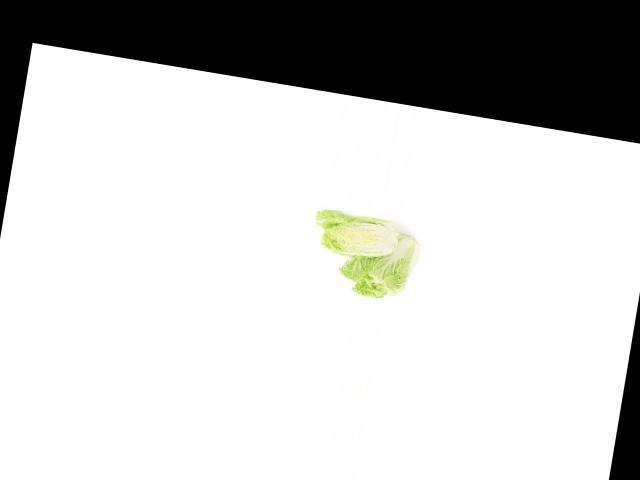lettuce: (330, 219, 424, 307)
